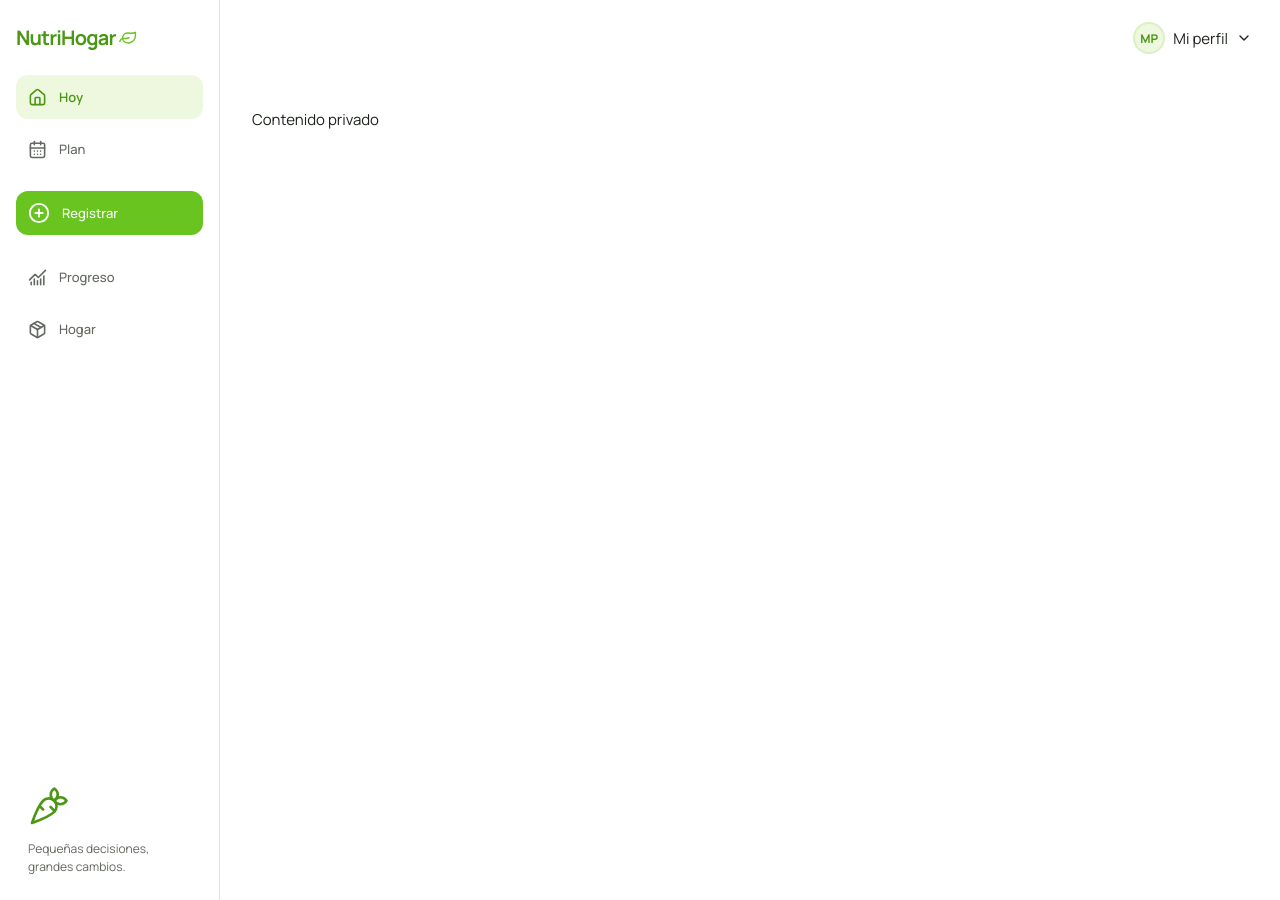
Test case: PrivateLayout › opens the small profile menu instead of a second module navigation
The width and height of the screenshot is (1280, 900).
Click the text "Mi perfil" at (1201, 38), box [1173,28,1228,48]
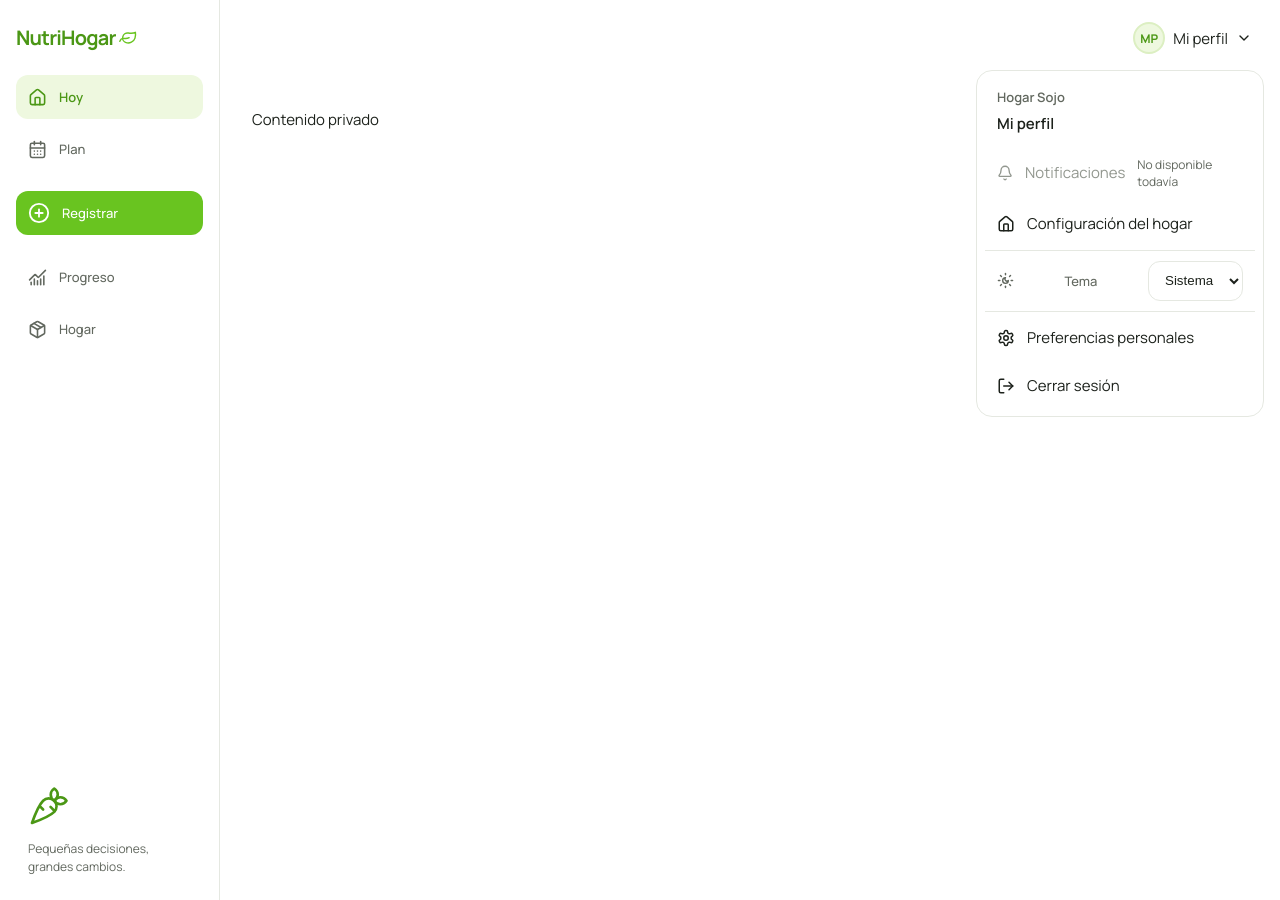
Result: the button "Notificaciones No disponible todavía" is disabled at [985,148,1255,198]
